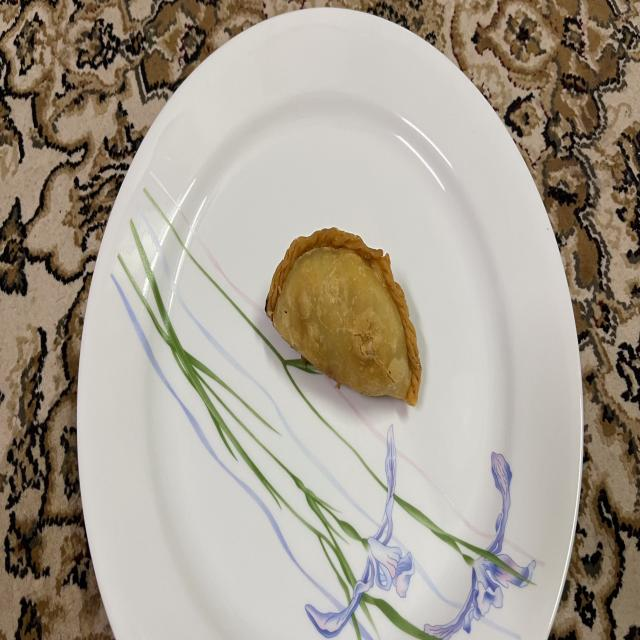karipap: (265, 227, 421, 407)
